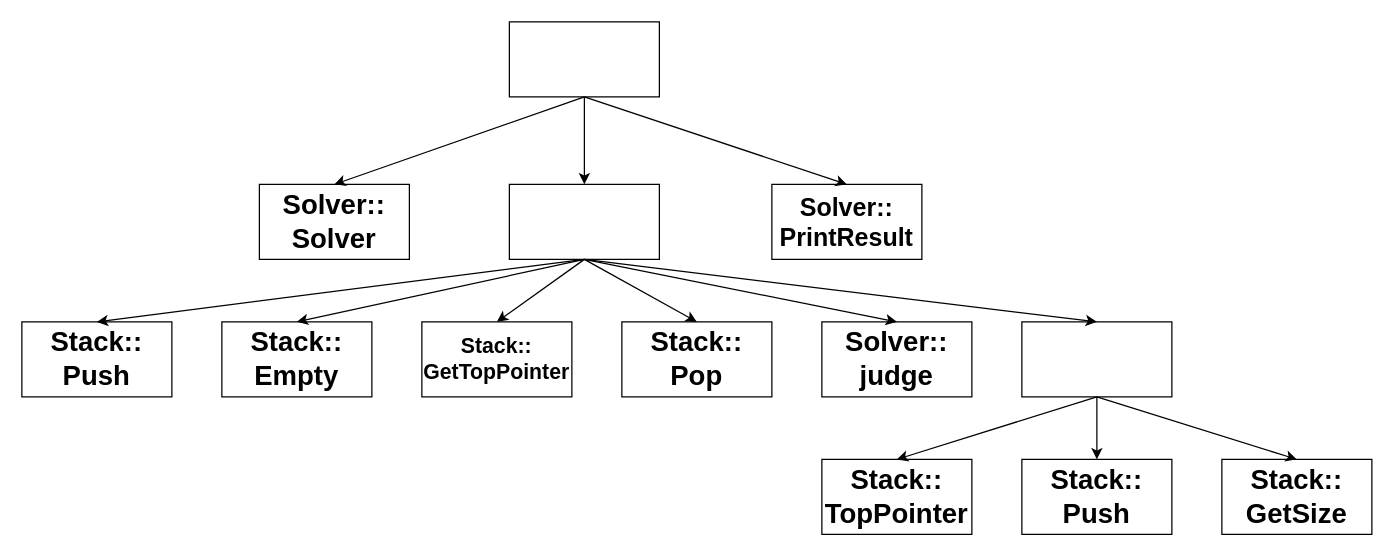
Some shapes in this 1394 by 556 pixel diagram are drawn without their labels. The shapes that lost their labels are listed below. From the top down, each one's centre as x and y in pixels, then its label:
the point at 583,59: main
the point at 583,221: Solver:: FindPath
the point at 1096,359: Solver:: save
